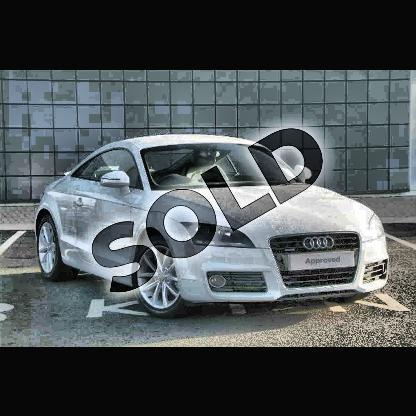Audi TTS Coupe 2012: (37, 135, 391, 318)
